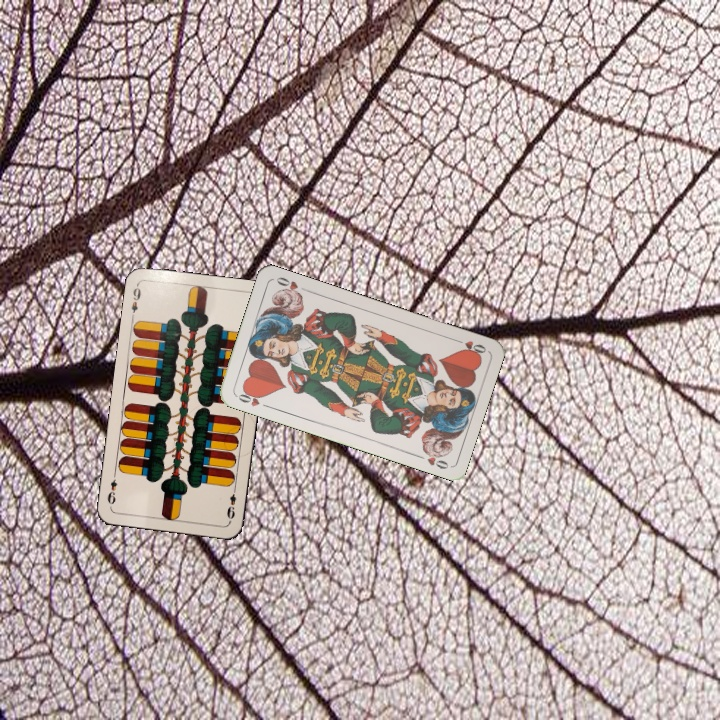E9: (127, 281, 144, 321), (223, 483, 239, 521)
HO: (232, 386, 272, 410), (450, 335, 489, 358)
